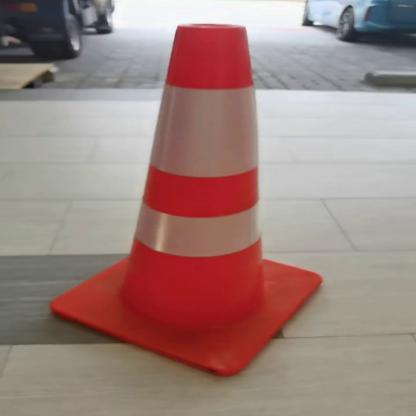cone: (68, 8, 352, 383)
